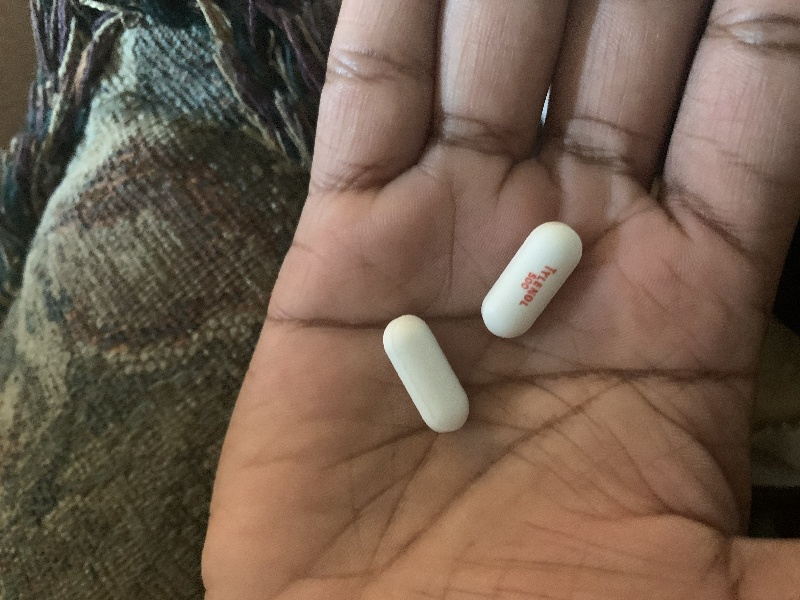Tylenol: (368, 305, 475, 454), (479, 211, 588, 342)
